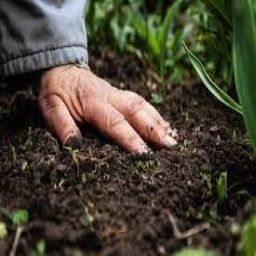dirt: (10, 134, 246, 246)
